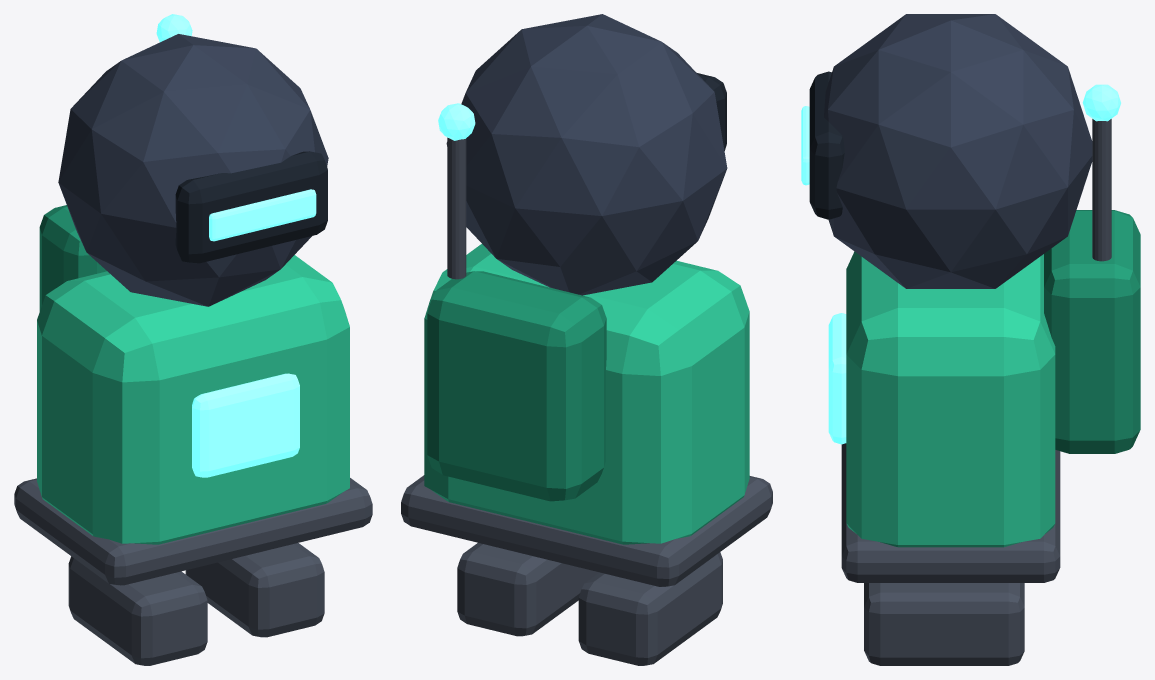
Rendered from player_mint.glb.
3 renders of one model, left to right at view 1: azimuth 30°, elevation 25°; view 2: azimuth 150°, elevation 25°; view 3: azimuth 270°, elevation 25°, orthographic. The views are drawn at different scales.
Parts seen in each view (by area): view 1: player_mint; view 2: player_mint; view 3: player_mint.
Part boxes in pixels (x1=…): player_mint: x1=14, y1=14, x2=372, y2=665; player_mint: x1=401, y1=14, x2=772, y2=665; player_mint: x1=801, y1=14, x2=1140, y2=665.
Size of the model in its own units: 1 by 2.07 by 1.05.
